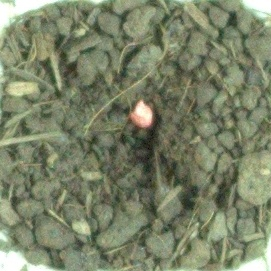pepper seed: (50, 35, 205, 164)
